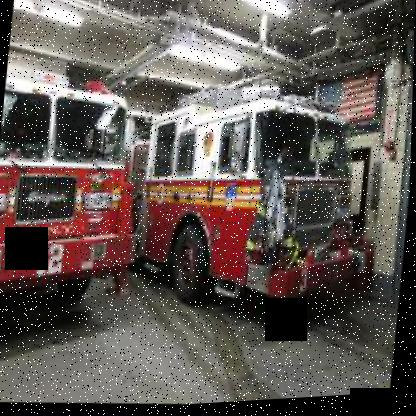emergency: (117, 73, 395, 324), (0, 37, 163, 351)
